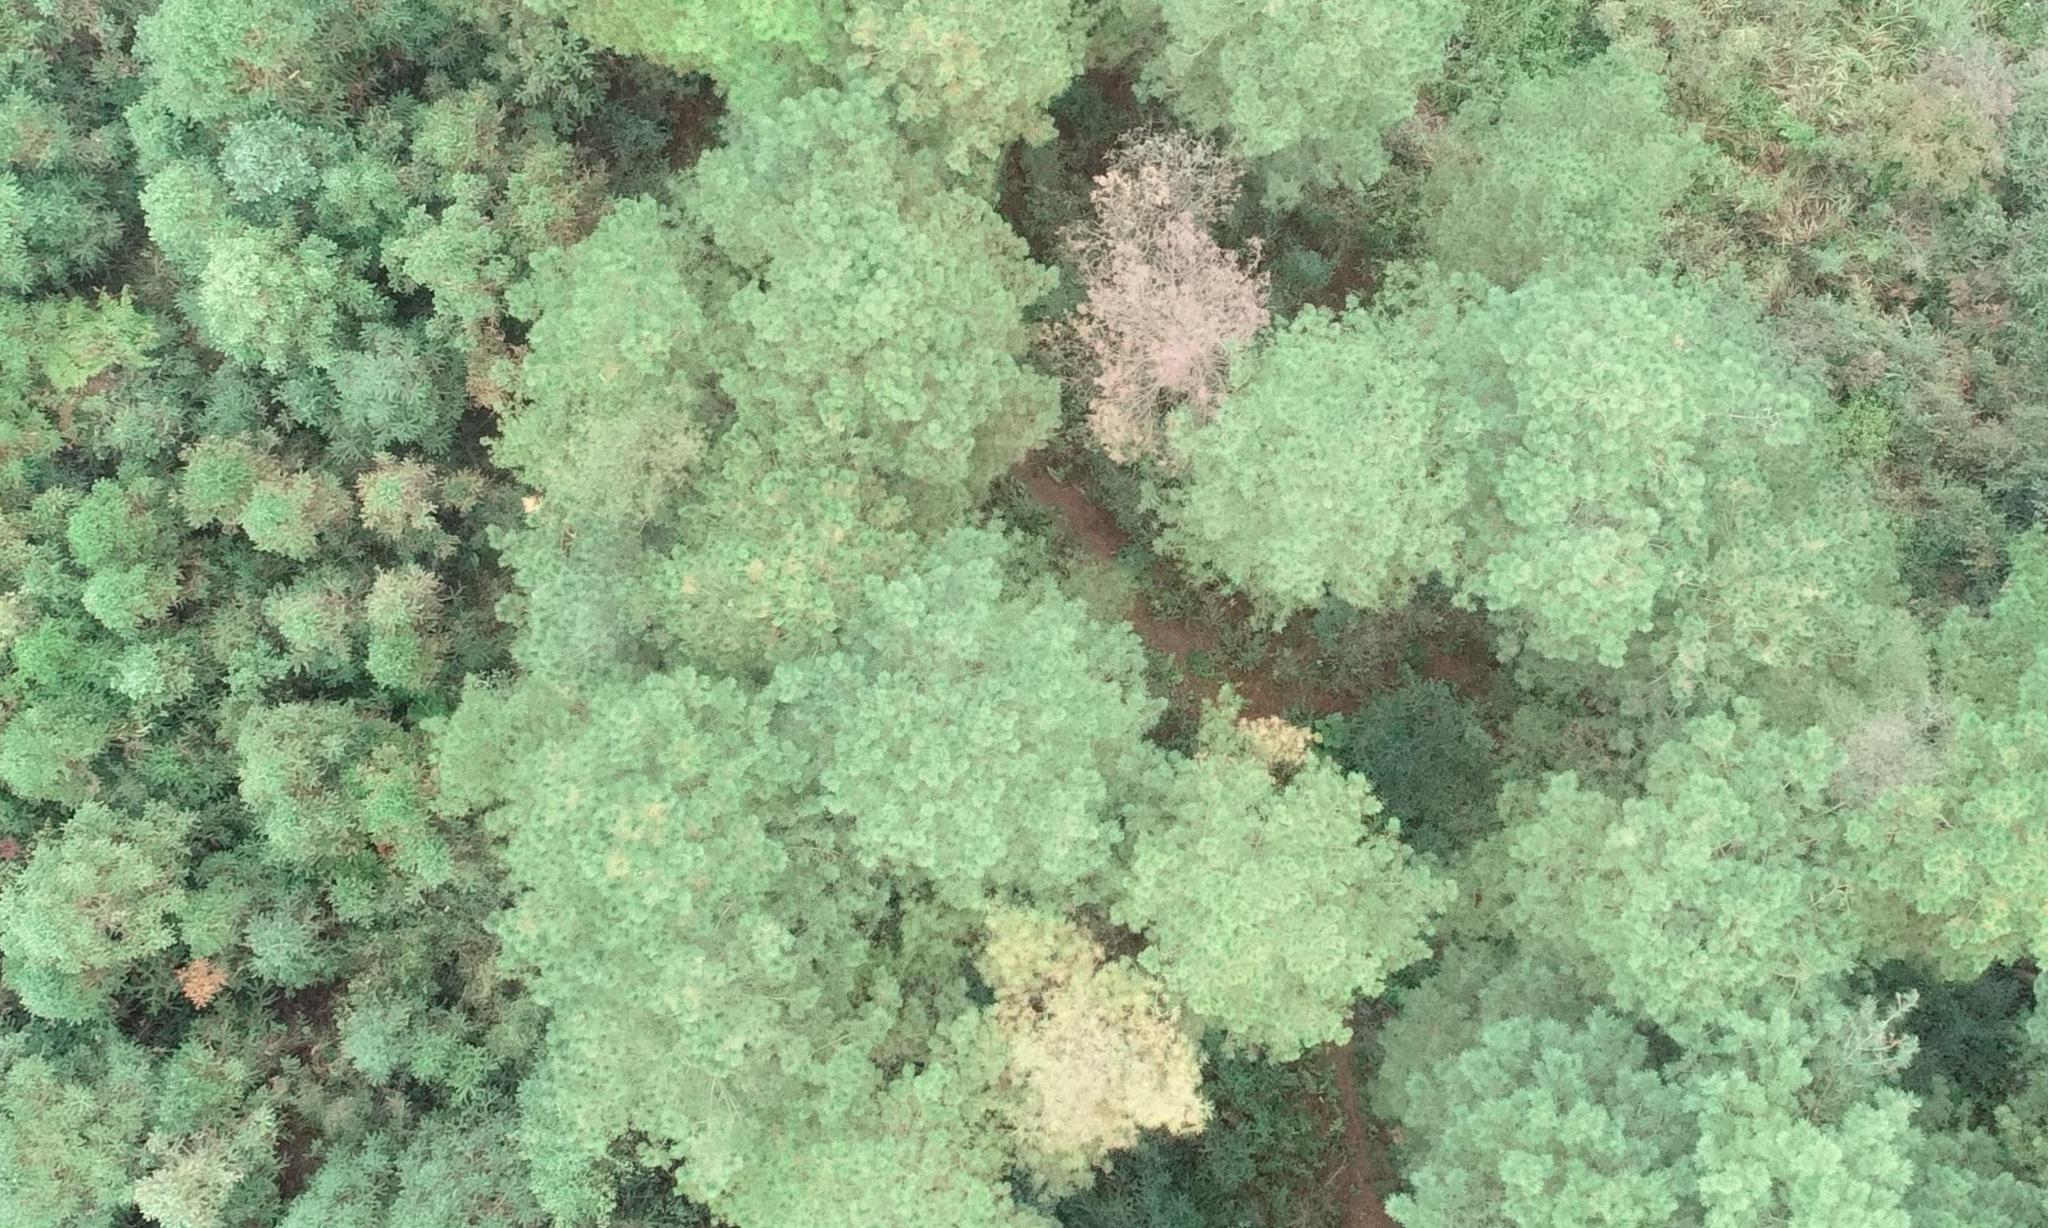heavy: (1042, 113, 1316, 469)
light: (946, 895, 1228, 1206)
